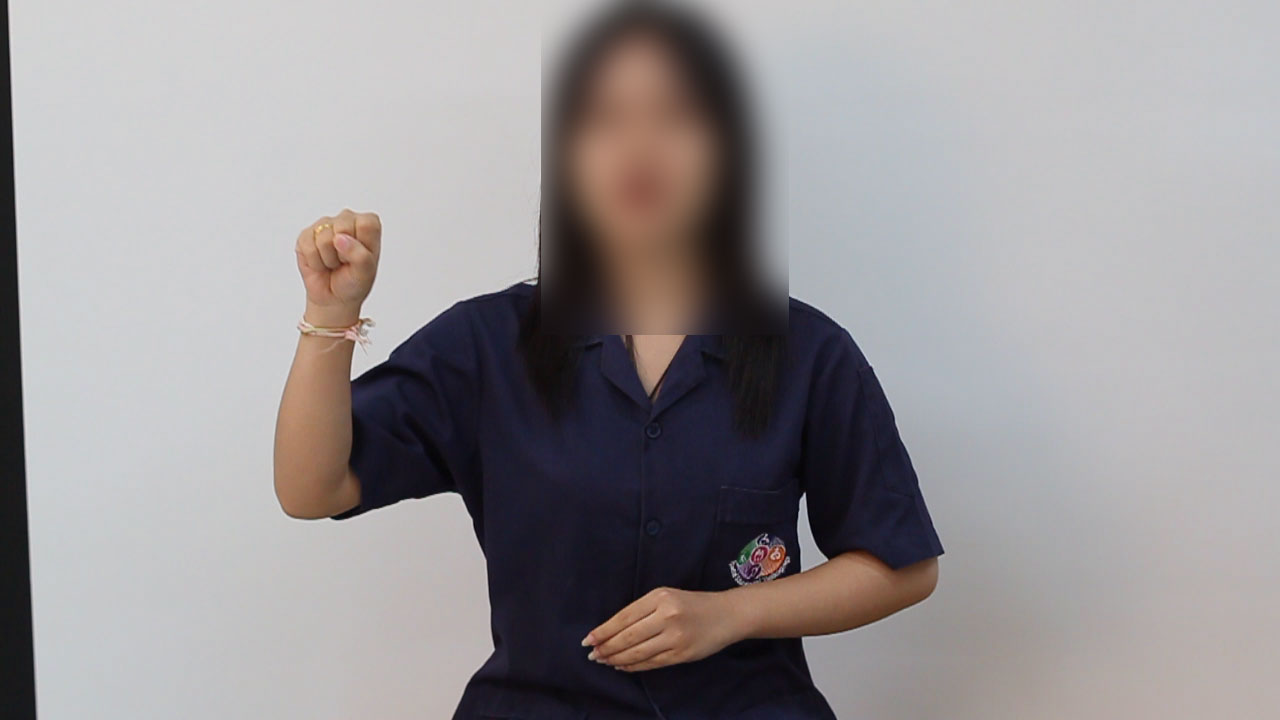sor: (277, 194, 390, 342)
